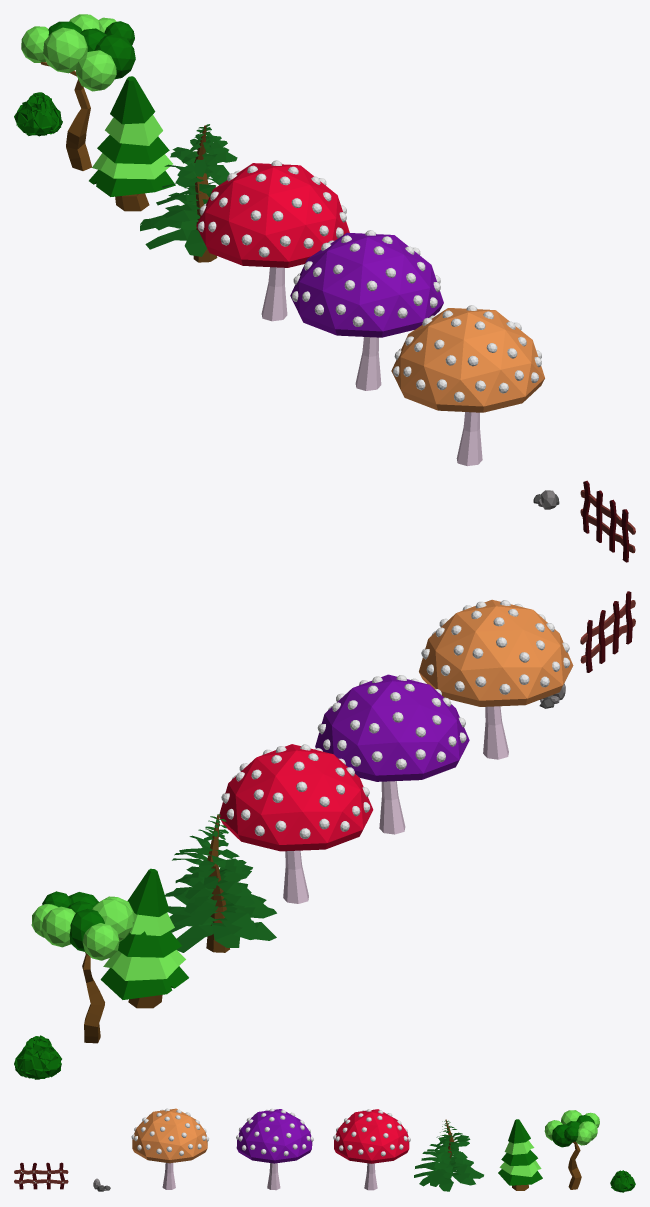
File: Assets.fbx
3 renders of one model, top to bottom at view 1: azimuth 30°, elevation 25°; view 2: azimuth 150°, elevation 25°; view 3: azimuth 270°, elevation 25°, orthographic. The views are drawn at different scales.
Parts seen in each view (by area): view 1: CoguLaranja.001, CoguVerde.001, CoguVermelho.001, Arvore Bola.001, Arvore Cone.001, Arvore Folha.001, Cerca.001, Arbosto.001; view 2: CoguVermelho.001, CoguLaranja.001, CoguVerde.001, Arvore Folha.001, Arvore Cone.001, Arvore Bola.001, Cerca.001, Arbosto.001; view 3: CoguLaranja.001, CoguVerde.001, CoguVermelho.001, Arvore Folha.001, Arvore Bola.001, Arvore Cone.001, Cerca.001, Arbosto.001.
Part boxes in pixels (<box>): CoguLaranja.001: <box>391,305,544,466</box>; CoguVerde.001: <box>290,230,443,390</box>; CoguVermelho.001: <box>196,160,349,321</box>; Arvore Bola.001: <box>21,14,135,170</box>; Arvore Cone.001: <box>89,76,175,211</box>; Arvore Folha.001: <box>140,124,237,262</box>; Cerca.001: <box>580,480,635,562</box>; Arbosto.001: <box>14,92,62,136</box>; CoguVermelho.001: <box>219,744,373,903</box>; CoguLaranja.001: <box>419,599,573,759</box>; CoguVerde.001: <box>315,674,469,834</box>; Arvore Folha.001: <box>165,814,276,952</box>; Arvore Cone.001: <box>100,868,188,1008</box>; Arvore Bola.001: <box>31,891,134,1043</box>; Cerca.001: <box>580,591,635,672</box>; Arbosto.001: <box>14,1035,61,1079</box>; CoguLaranja.001: <box>131,1108,209,1189</box>; CoguVerde.001: <box>236,1108,313,1190</box>; CoguVermelho.001: <box>333,1109,410,1190</box>; Arvore Folha.001: <box>414,1119,483,1191</box>; Arvore Bola.001: <box>544,1110,599,1189</box>; Arvore Cone.001: <box>498,1119,542,1190</box>; Cerca.001: <box>14,1162,68,1189</box>; Arbosto.001: <box>610,1170,635,1192</box>.
Bounding box in the file's own units: 2794 × 2854 × 21156.
